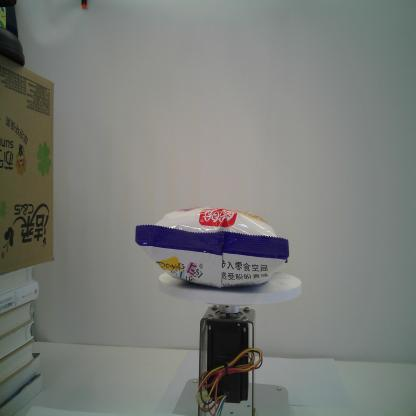Puffed Food: (134, 203, 291, 292)
